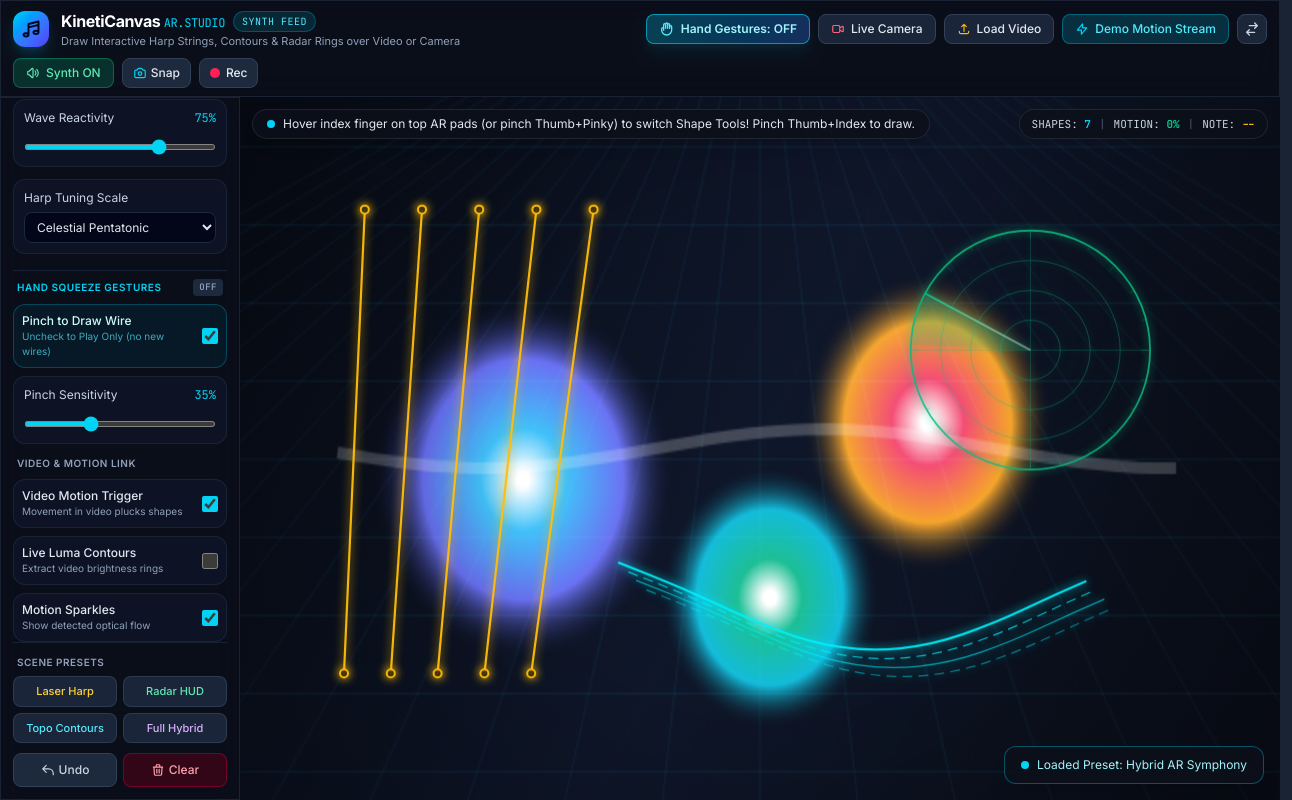
Test case: KinetiCanvasStudio.svelte › loads the default preset and clears it
(page scrolled)
Check: the message reads "Loaded Preset: Hybrid AR Symphony", box [1037,757,1247,772]
Click the button with aria-label "Clear all shapes". click: (175, 770)
box: [123,753,227,787]
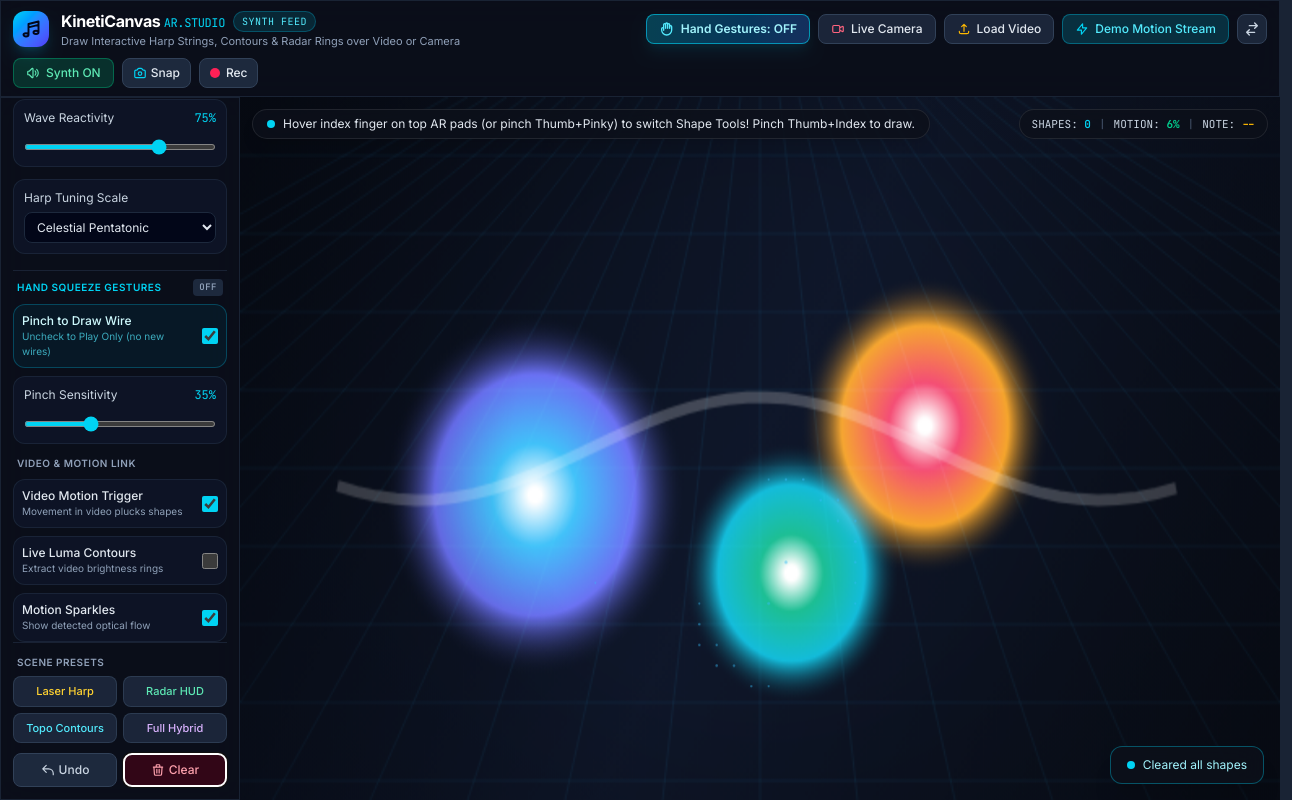
Check: the message reads "Cleared all shapes", box [1143,757,1247,772]
